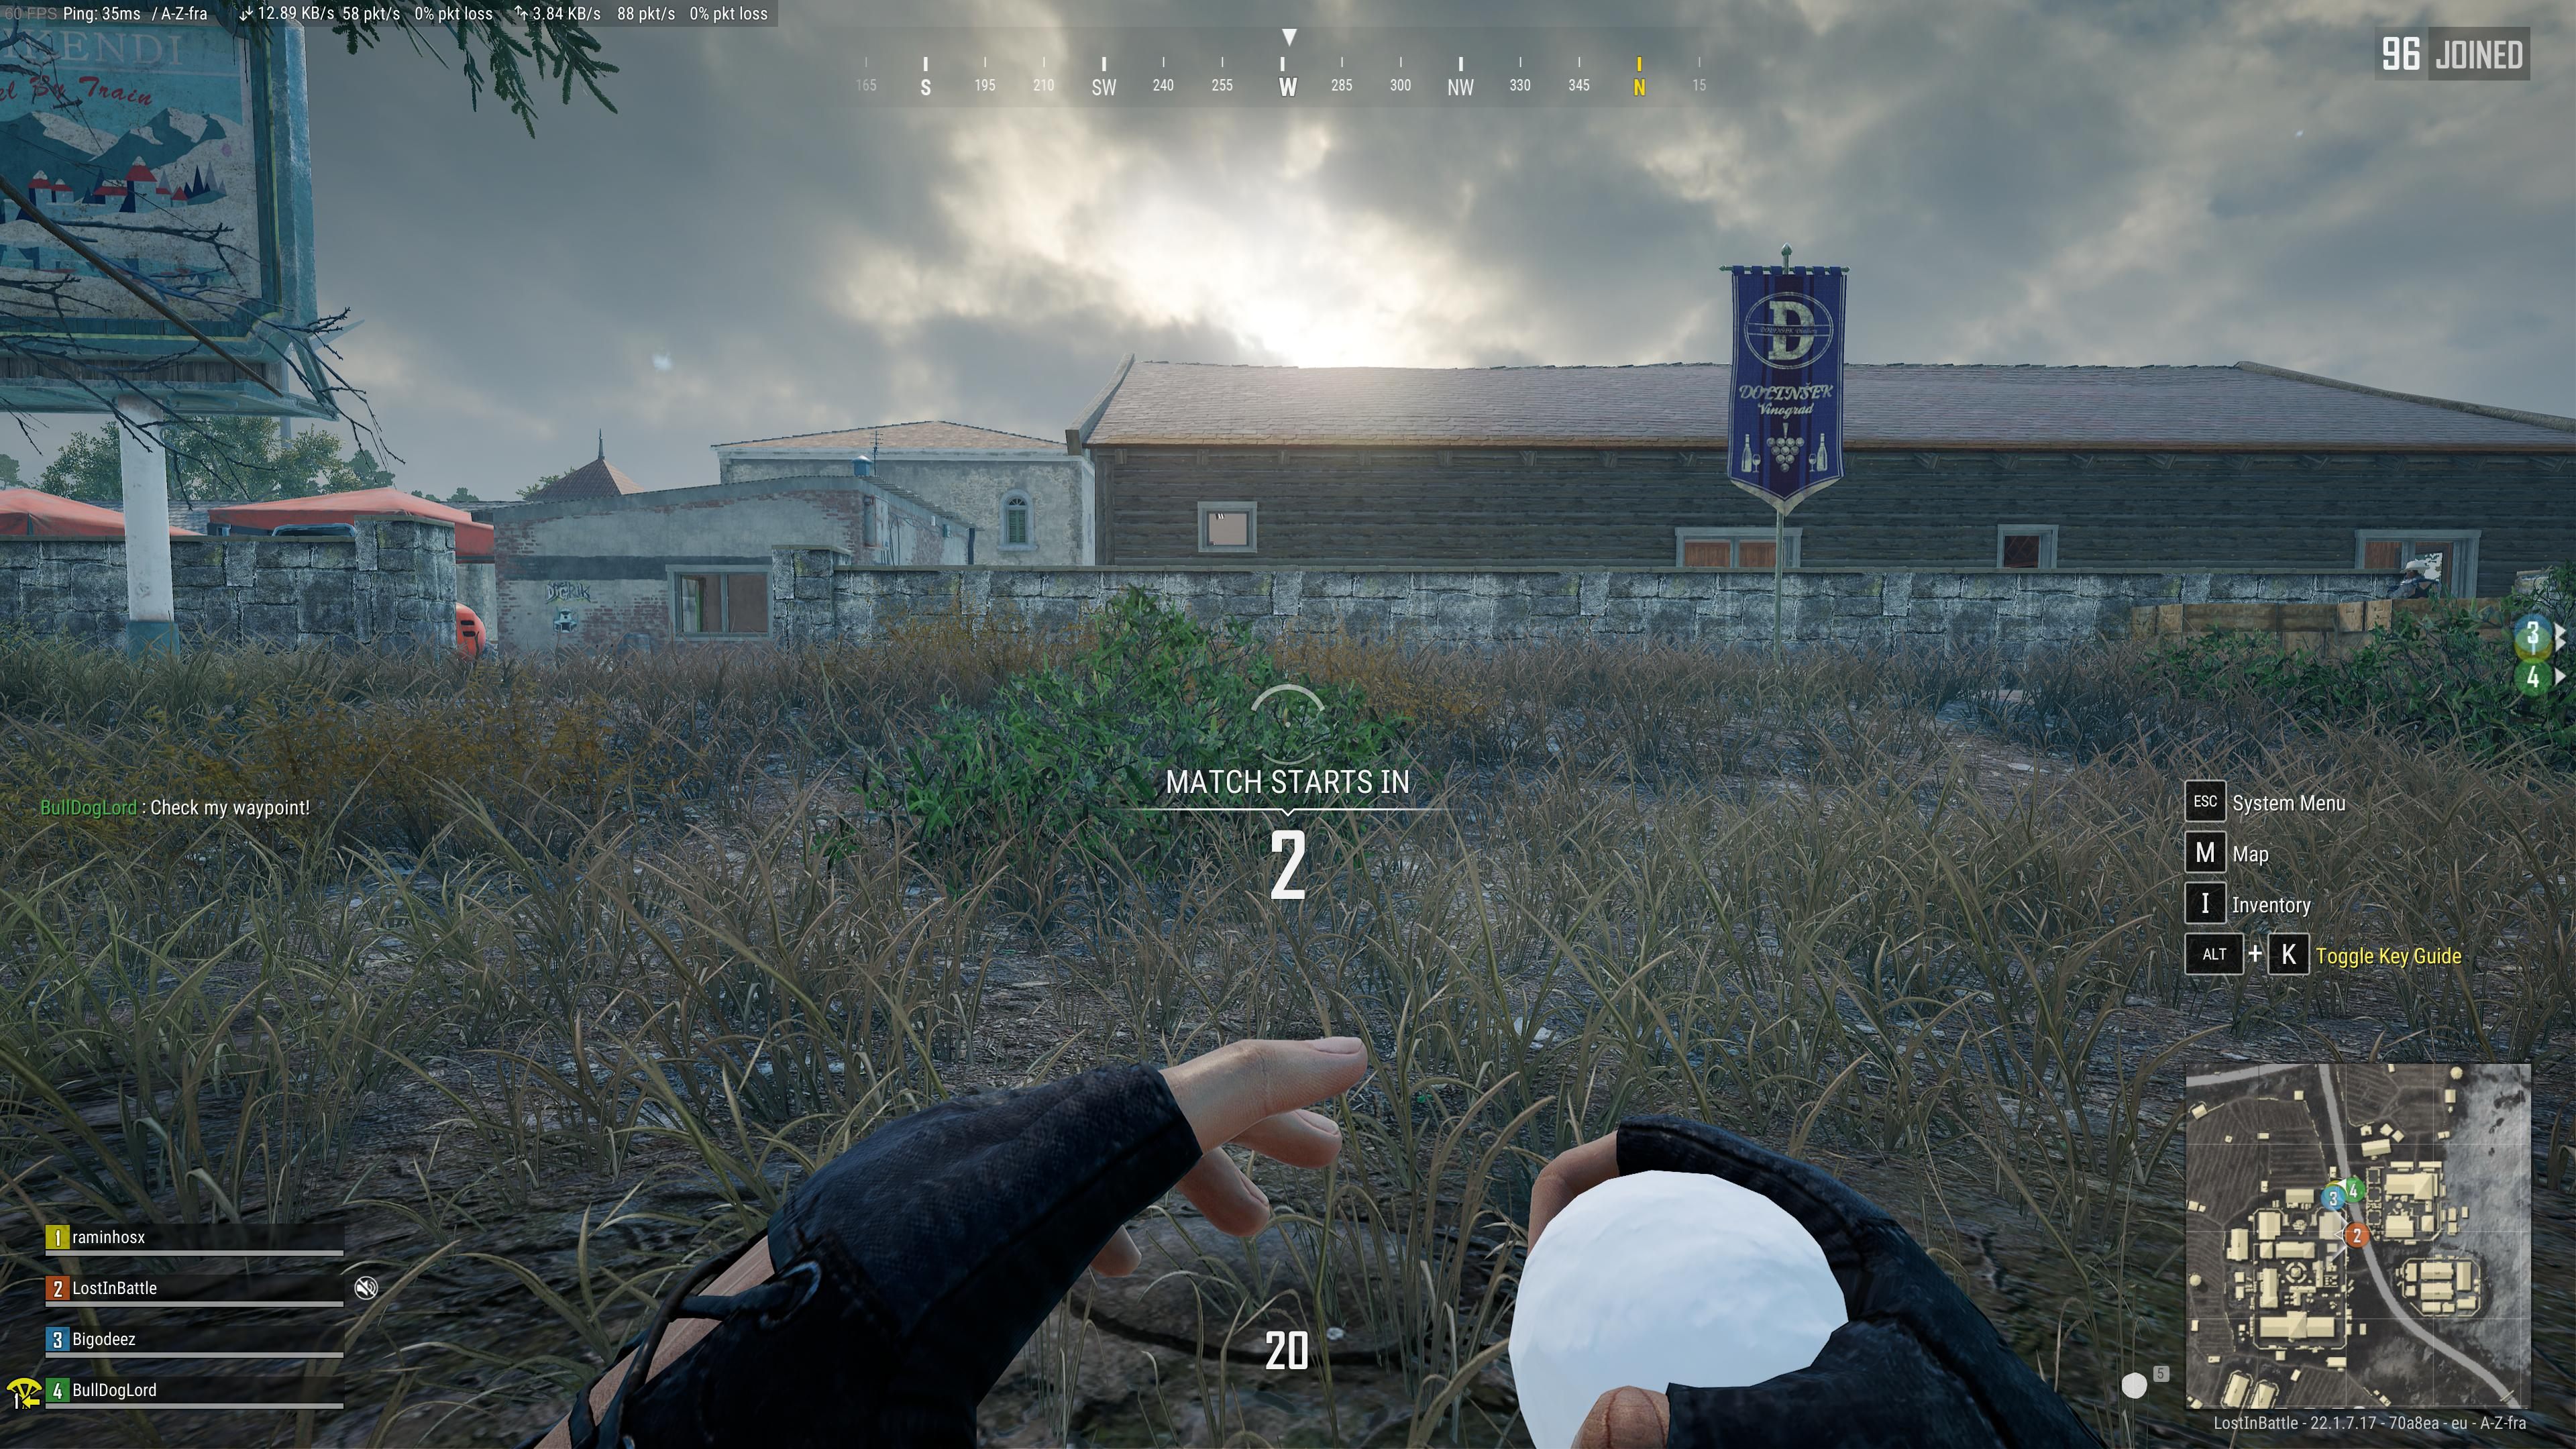enemy: (2385, 559, 2443, 596)
enemy_head: (2404, 561, 2426, 579)
